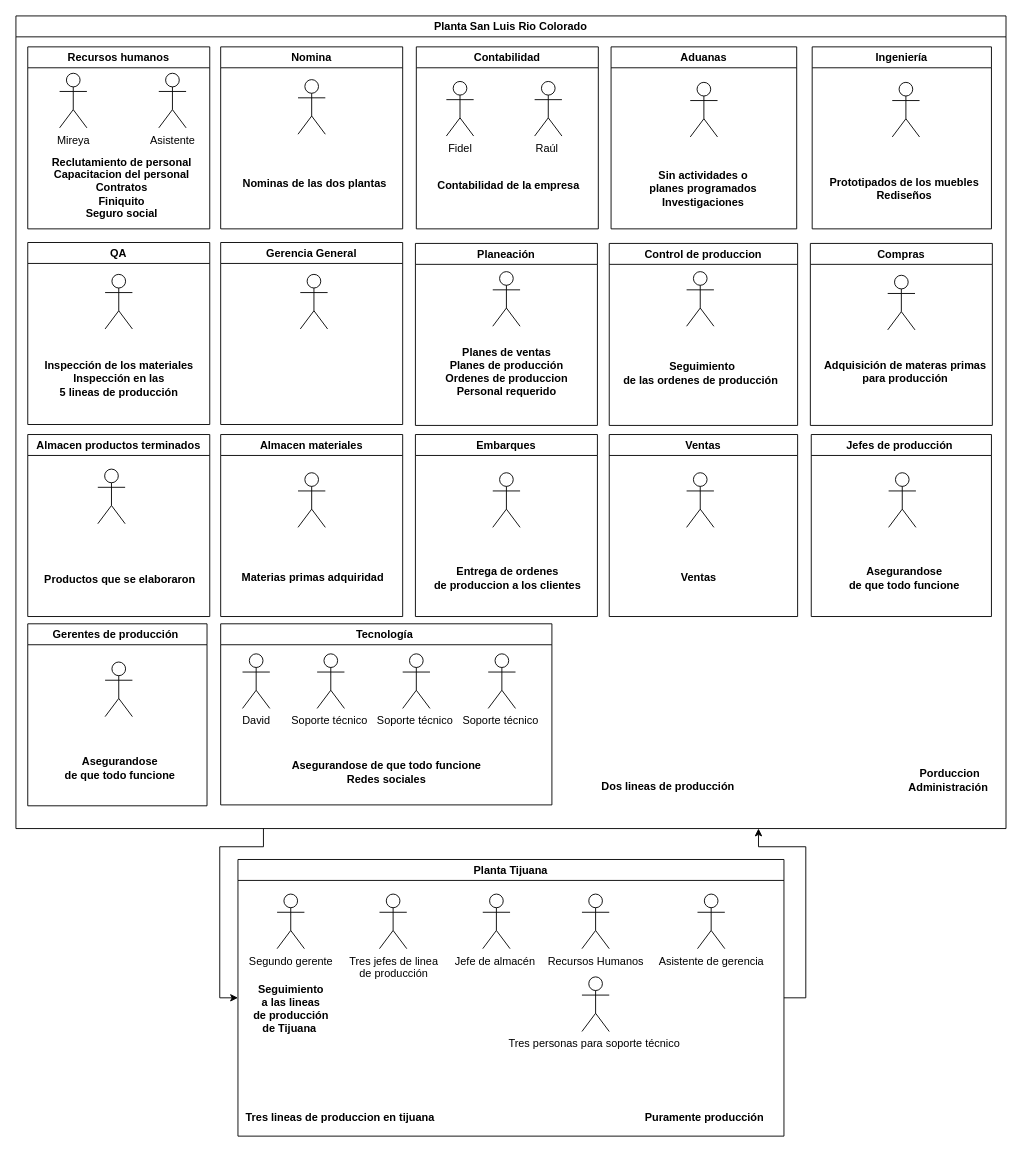
Some shapes in this 1022 by 1152 pixel diagram are drawn without their labels. The shapes that lost their labels are listed below. From the top down, each one's centre as x and y in pixels, then its label:
pixel 311 106: Laura
pixel 703 109: Dulce
pixel 905 109: Álvaro
pixel 118 301: María
pixel 313 301: Osuna Fernando Sandoval Fernando Galvan Victor
